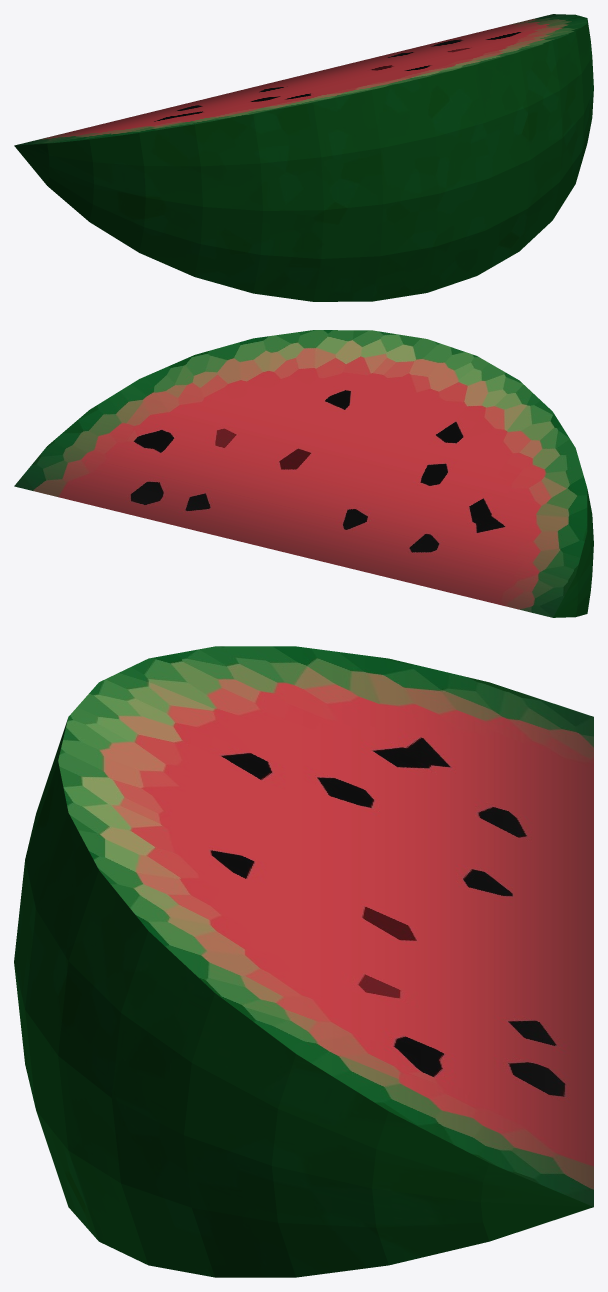
Rendered from watermelon.gltf.
3 views of the same model, one above another, from view 1: azimuth 30°, elevation 25°; view 2: azimuth 150°, elevation 25°; view 3: azimuth 270°, elevation 25° (orthographic). The views are drawn at different scales.
Parts seen in each view (by area): view 1: Sphere; view 2: Sphere; view 3: Sphere.
Part boxes in pixels (left/top/right/bottom): Sphere: left=14, top=14, right=593, bottom=301; Sphere: left=14, top=330, right=593, bottom=617; Sphere: left=14, top=646, right=593, bottom=1277.
Bounding box in the file's own units: 1 × 0.3827 × 0.5.
1 material, 1 textured.
